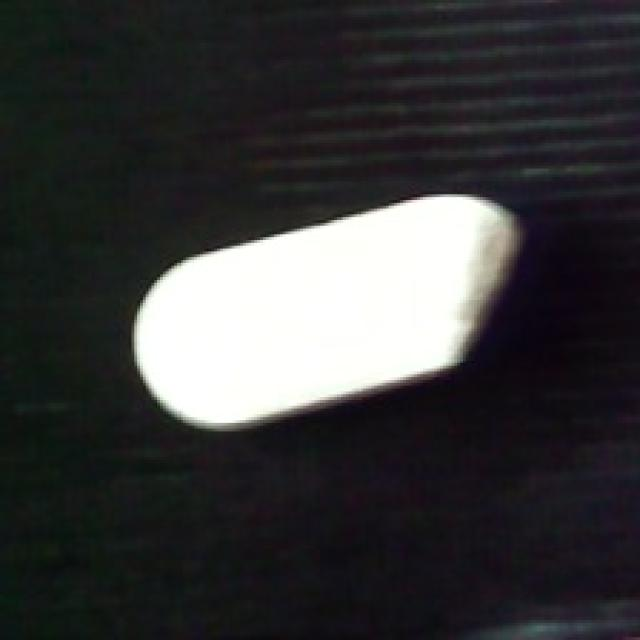defected: (126, 188, 526, 431)
